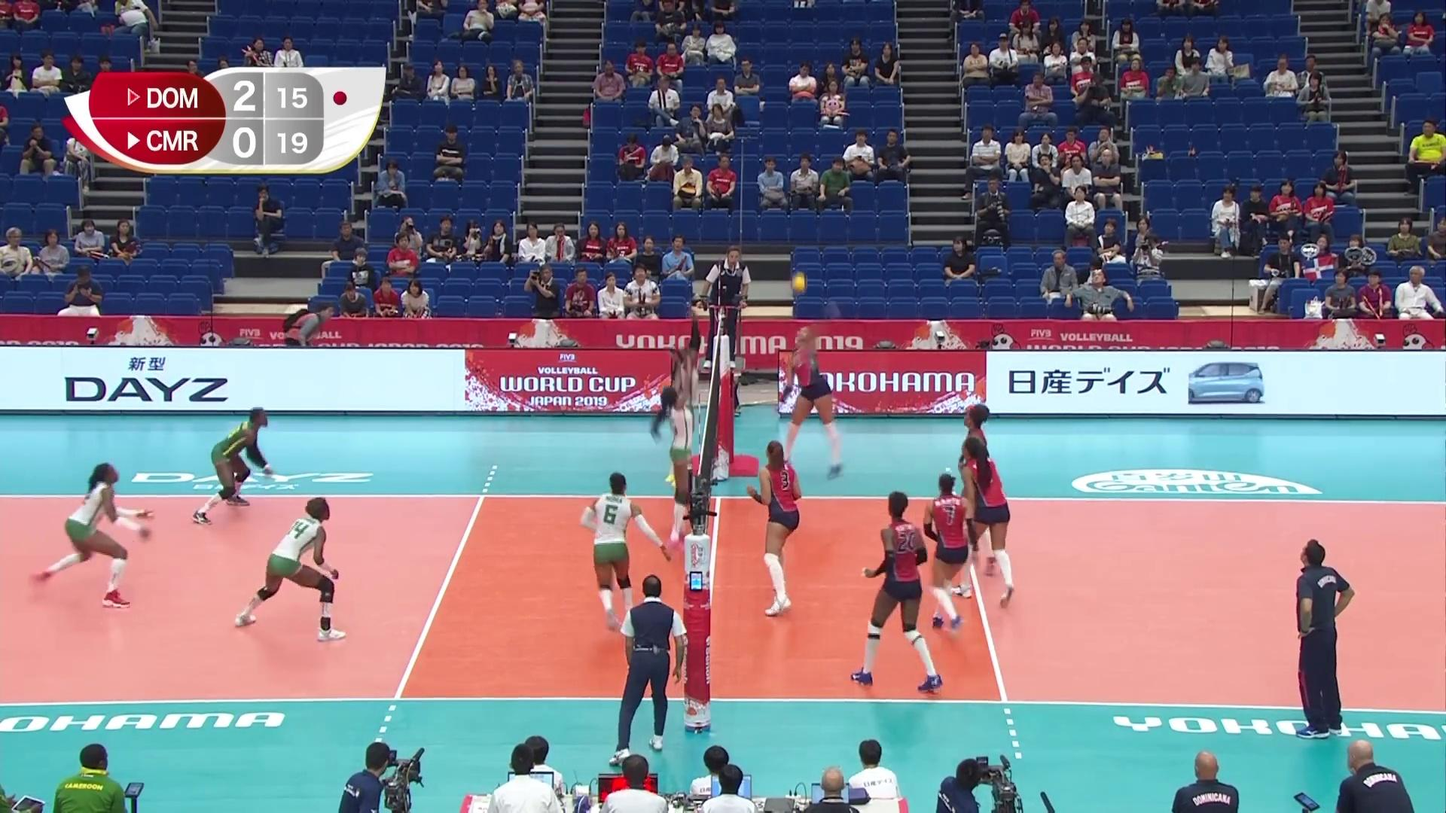player: (852, 491, 946, 692), (34, 461, 154, 608), (239, 496, 349, 638), (582, 471, 662, 634), (776, 323, 846, 483), (746, 441, 806, 618), (194, 408, 270, 525), (961, 440, 1014, 607), (925, 474, 974, 638), (958, 403, 1002, 574), (661, 375, 701, 548), (664, 334, 702, 497)
refree: (614, 574, 679, 764), (706, 248, 749, 370)
